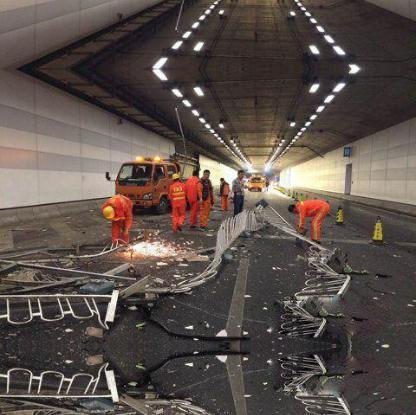helmet: (100, 203, 116, 219), (166, 169, 180, 185)
